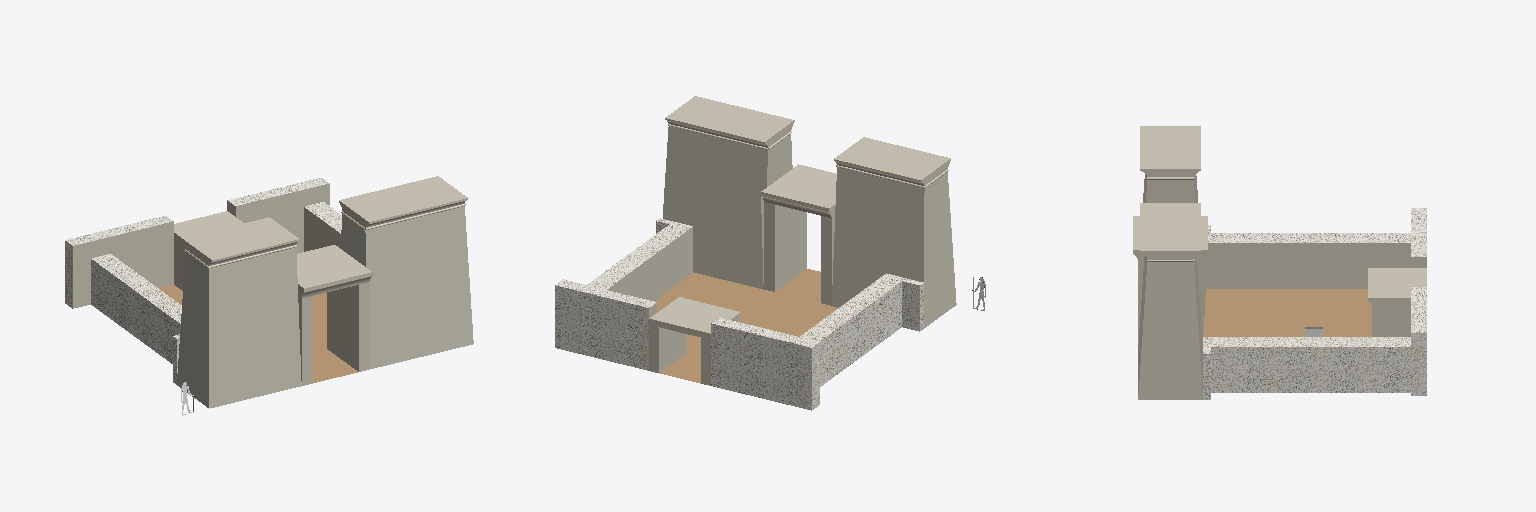
3 views of the same model, side by side, from view 1: azimuth 30°, elevation 25°; view 2: azimuth 150°, elevation 25°; view 3: azimuth 270°, elevation 25° (orthographic).
Visible parts, largest first — view 1: Mesh4 Model, Mesh1 Component_1_1 Model, Mesh2 Component_2_1 Model, Mesh3 Component_2_2 Model; view 2: Mesh4 Model, Mesh1 Component_1_1 Model, Mesh2 Component_2_1 Model, Mesh3 Component_2_2 Model; view 3: Mesh4 Model, Mesh2 Component_2_1 Model, Mesh3 Component_2_2 Model, Mesh1 Component_1_1 Model.
Boxes of the visible parts, x1,y1,x2,y2 form: Mesh4 Model: [65, 178, 473, 408]; Mesh1 Component_1_1 Model: [297, 245, 372, 385]; Mesh2 Component_2_1 Model: [339, 176, 467, 229]; Mesh3 Component_2_2 Model: [182, 217, 299, 267]; Mesh4 Model: [555, 126, 956, 410]; Mesh1 Component_1_1 Model: [761, 164, 836, 305]; Mesh2 Component_2_1 Model: [665, 96, 794, 149]; Mesh3 Component_2_2 Model: [834, 137, 950, 187]; Mesh4 Model: [1138, 174, 1426, 399]; Mesh2 Component_2_1 Model: [1140, 203, 1200, 261]; Mesh3 Component_2_2 Model: [1140, 126, 1200, 179]; Mesh1 Component_1_1 Model: [1133, 216, 1207, 343].
Size of the model in its own units: 14.68 by 7.09 by 12.74.
7 materials, 2 textured.